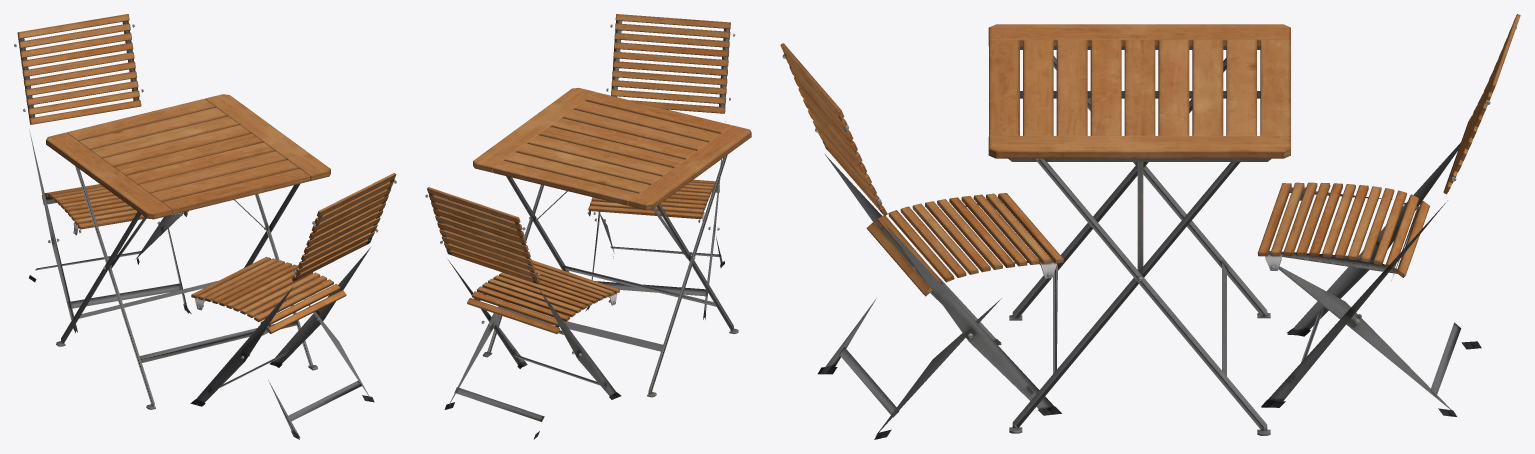
The model's file is ph_cafe.glb.
The picture shows the model from 3 angles, left to right: view 1: azimuth 30°, elevation 25°; view 2: azimuth 150°, elevation 25°; view 3: azimuth 270°, elevation 25°; orthographic projection. The views are drawn at different scales.
Parts seen in each view (by area): view 1: outdoor_table_chair_set_01_chair_01, outdoor_table_chair_set_01_table; view 2: outdoor_table_chair_set_01_chair_01, outdoor_table_chair_set_01_table; view 3: outdoor_table_chair_set_01_table, outdoor_table_chair_set_01_chair_01.
Boxes of the visible parts, left/top/right/bottom form: outdoor_table_chair_set_01_chair_01: left=14, top=14, right=396, bottom=439; outdoor_table_chair_set_01_table: left=46, top=94, right=330, bottom=409; outdoor_table_chair_set_01_chair_01: left=425, top=14, right=735, bottom=439; outdoor_table_chair_set_01_table: left=473, top=87, right=751, bottom=397; outdoor_table_chair_set_01_table: left=988, top=24, right=1290, bottom=435; outdoor_table_chair_set_01_chair_01: left=780, top=14, right=1520, bottom=439.
Size of the model in its own units: 0.7404 by 0.8505 by 1.7.
Materials: 2 (2 with a texture image).
